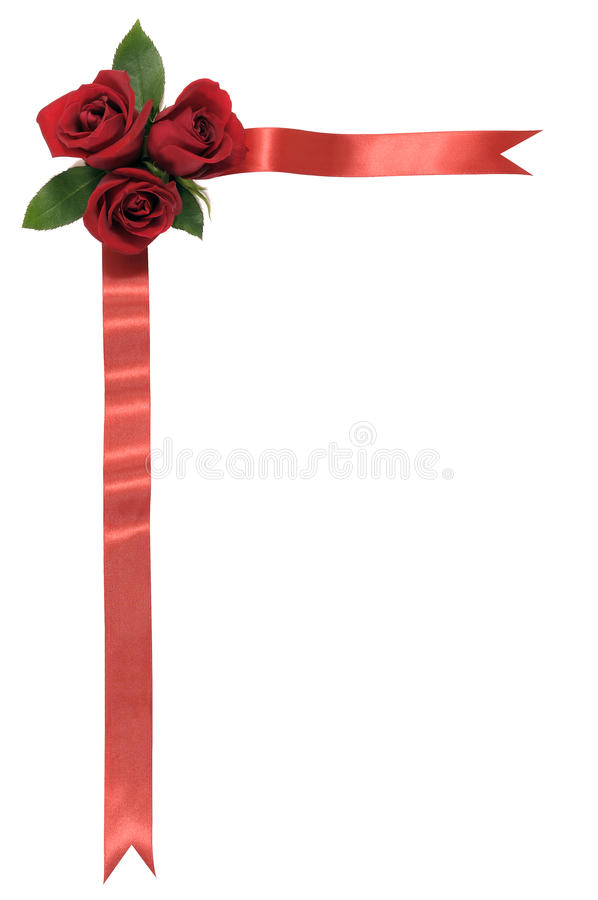RedRose: (36, 65, 174, 177), (71, 152, 180, 266), (143, 88, 268, 178)
